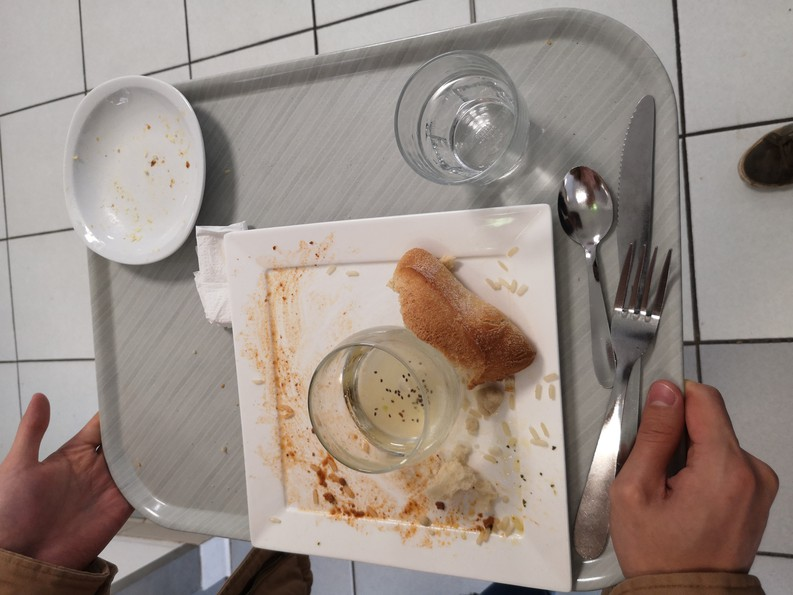cup: (376, 49, 547, 201)
cutlery: (553, 85, 677, 567)
orga: (393, 240, 532, 394)
trash: (188, 222, 257, 325)
